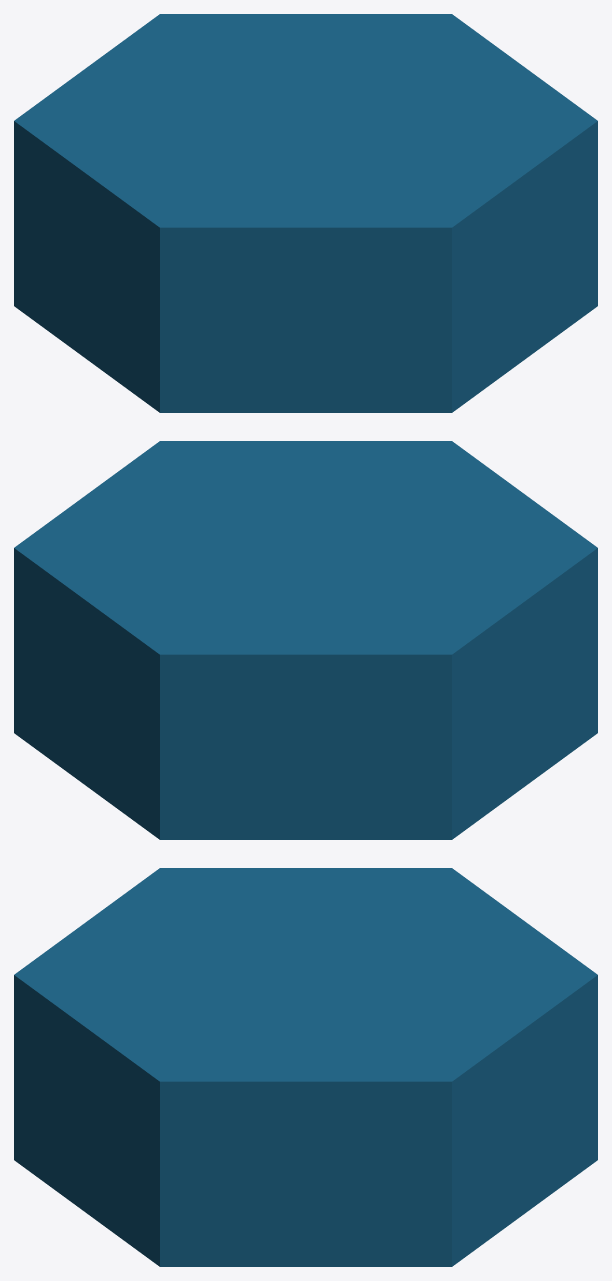
The model's file is _deep_water_wall_t.glb.
3 renders of one model, top to bottom at view 1: azimuth 30°, elevation 25°; view 2: azimuth 150°, elevation 25°; view 3: azimuth 270°, elevation 25°, orthographic.
Parts seen in each view (by area): view 1: DeepWaterWallTall; view 2: DeepWaterWallTall; view 3: DeepWaterWallTall.
Part boxes in pixels (bbox=[...]): DeepWaterWallTall: bbox=[14, 14, 597, 412]; DeepWaterWallTall: bbox=[14, 441, 597, 839]; DeepWaterWallTall: bbox=[14, 868, 597, 1266].
Size of the model in its own units: 1.73 by 0.7 by 2.
Materials: 1 (1 with a texture image).
